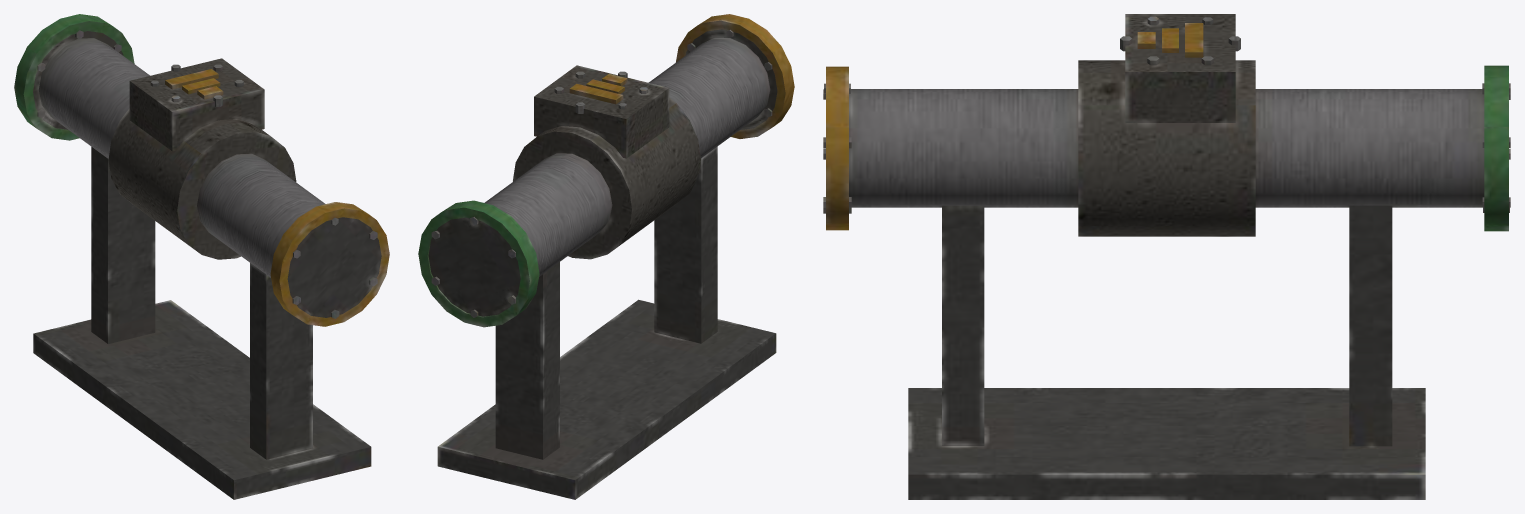
Rendered from feValveCheck.glb.
3 views of the same model, side by side, from view 1: azimuth 30°, elevation 25°; view 2: azimuth 150°, elevation 25°; view 3: azimuth 270°, elevation 25° (orthographic). The views are drawn at different scales.
Parts seen in each view (by area): view 1: feValveCheck_Base; view 2: feValveCheck_Base; view 3: feValveCheck_Base.
Part boxes in pixels (box(x1,y1,x2,y2)): feValveCheck_Base: box(14, 14, 389, 499); feValveCheck_Base: box(418, 14, 794, 499); feValveCheck_Base: box(823, 14, 1510, 499).
Bounding box in the file's own units: 0.3012 × 0.6806 × 1.01.
1 material, 1 textured.
